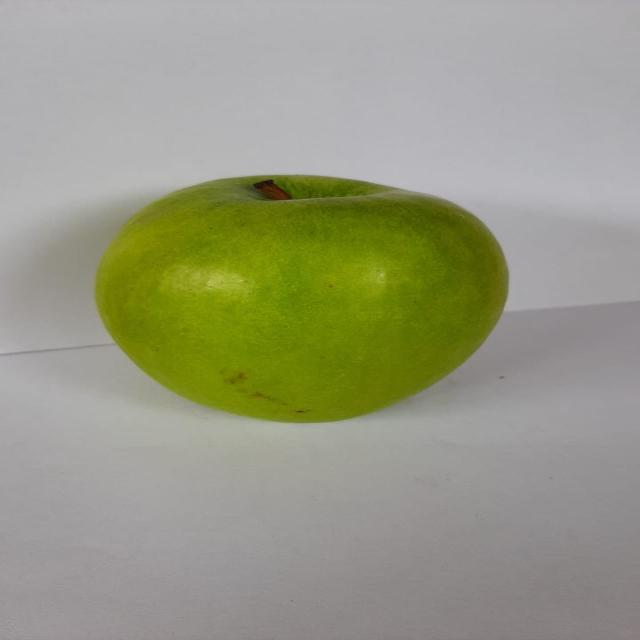50-_ripeness: (66, 163, 522, 433)
